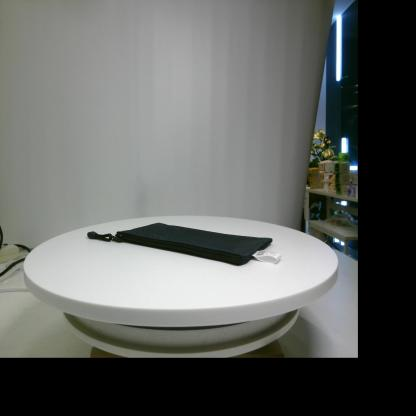Stationery: (87, 223, 282, 264)
